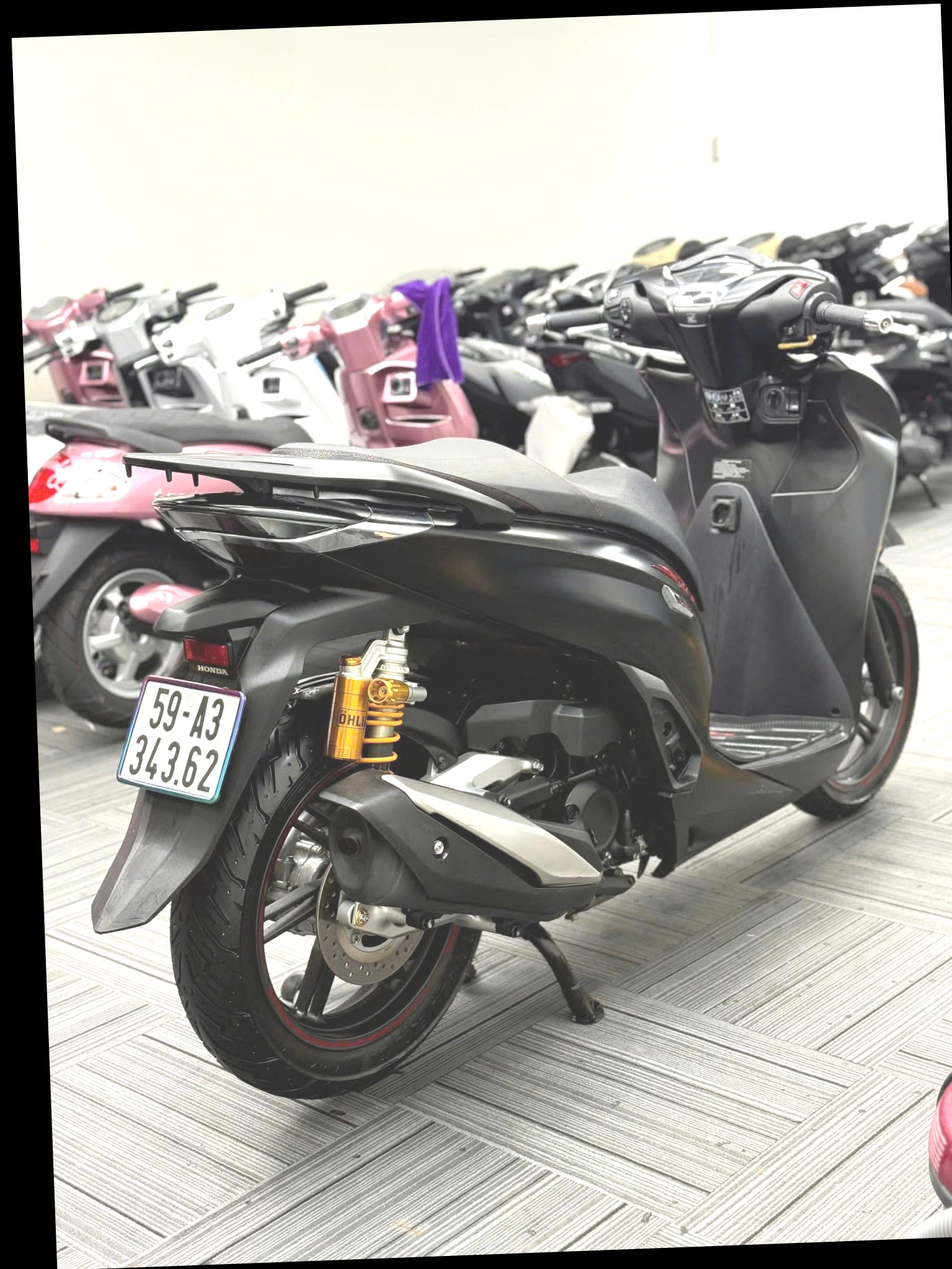Bien-so: (105, 666, 253, 810)
